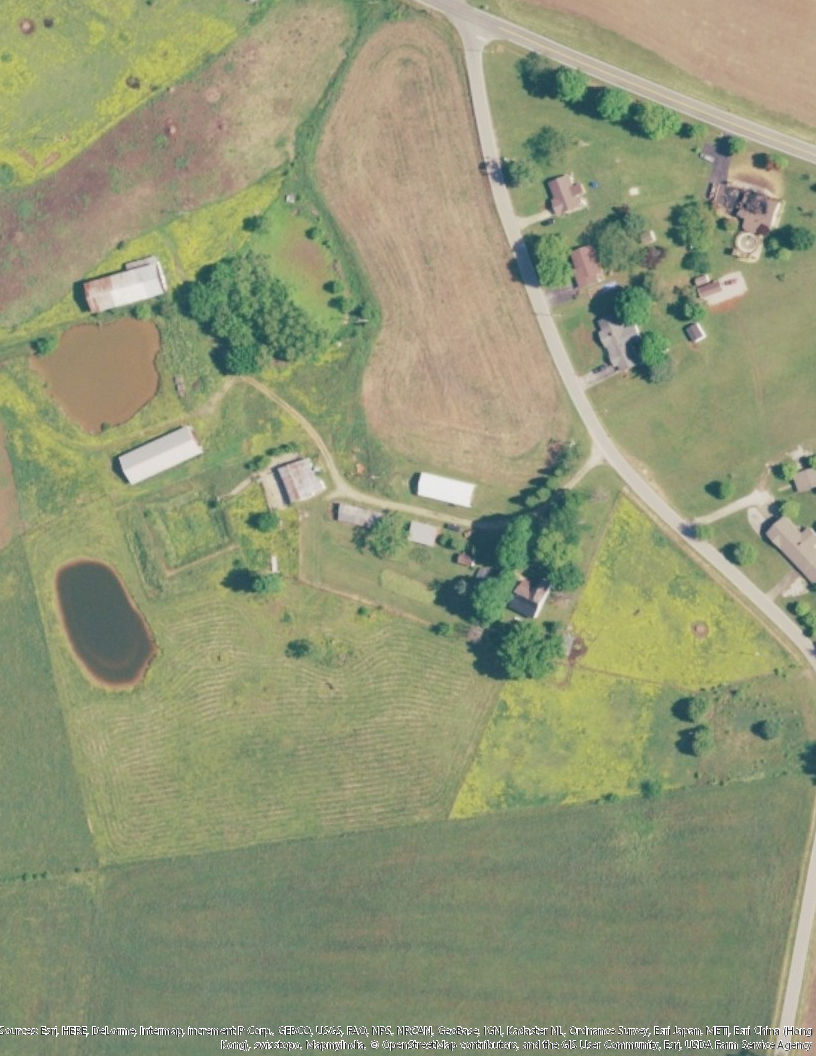cafo: (109, 420, 215, 482), (74, 252, 172, 311), (411, 466, 482, 512)
